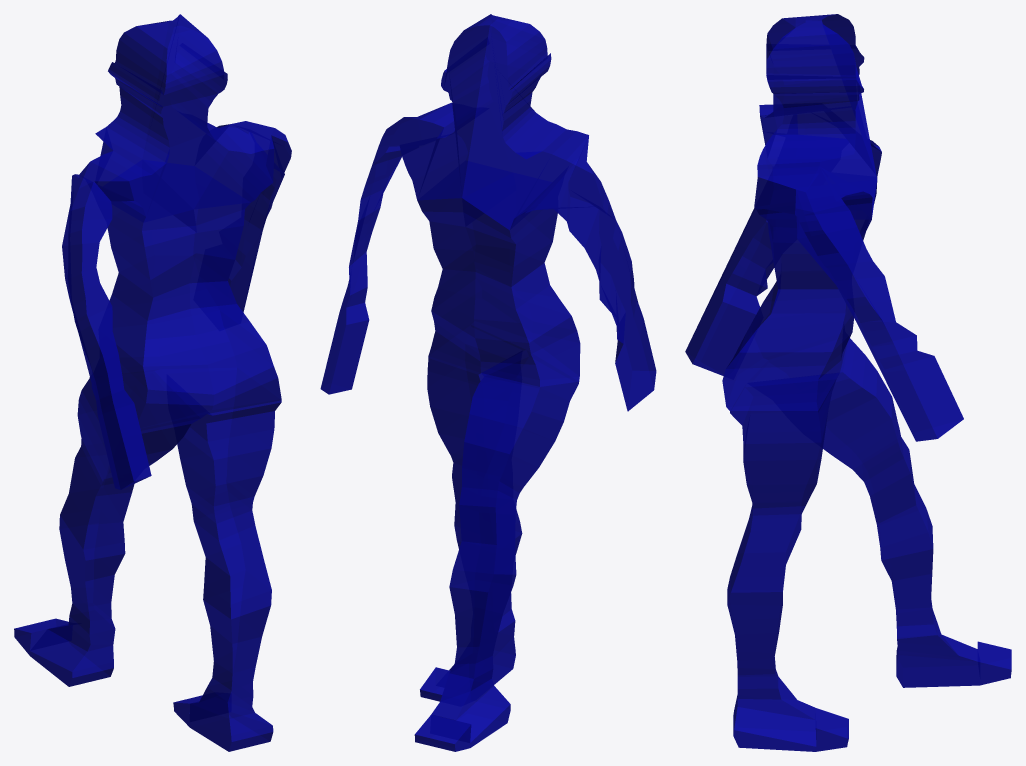
The model's file is woman_000011.obj.
3 views of the same model, side by side, from view 1: azimuth 30°, elevation 25°; view 2: azimuth 150°, elevation 25°; view 3: azimuth 270°, elevation 25° (orthographic). The views are drawn at different scales.
Parts seen in each view (by area): view 1: Cube_Cube.001; view 2: Cube_Cube.001; view 3: Cube_Cube.001.
Part boxes in pixels (bbox=[...]): Cube_Cube.001: bbox=[14, 14, 291, 751]; Cube_Cube.001: bbox=[320, 14, 656, 751]; Cube_Cube.001: bbox=[685, 14, 1011, 751].
Size of the model in its own units: 3.51 by 9.95 by 4.19.
